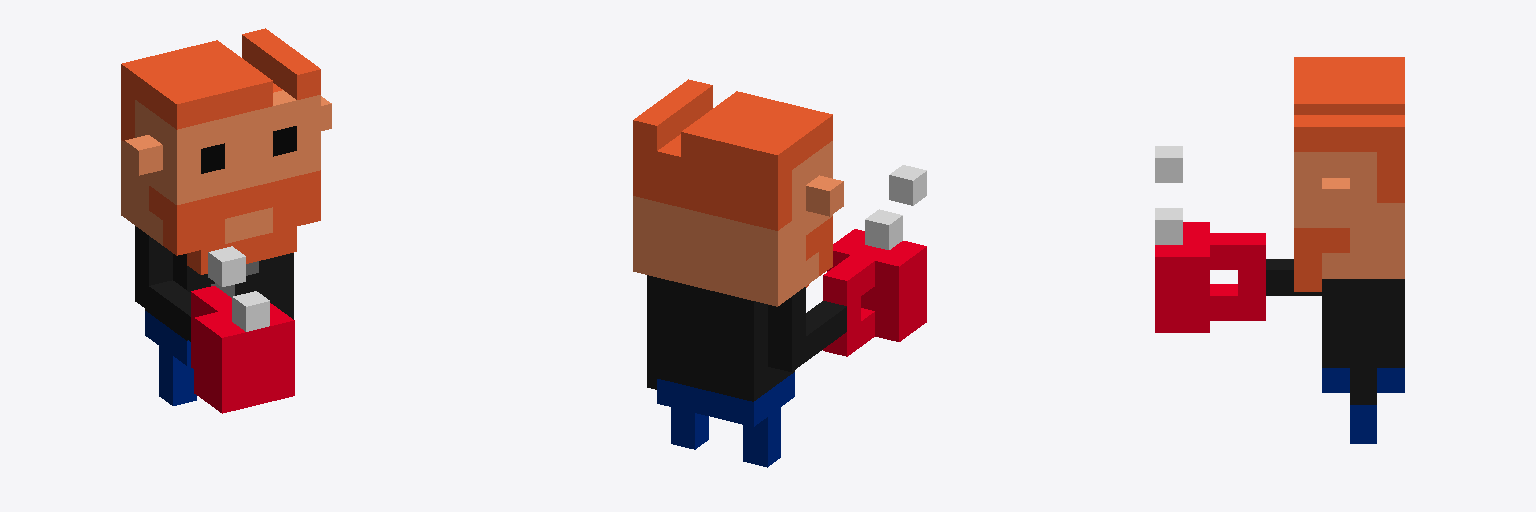
3 renders of one model, left to right at view 1: azimuth 30°, elevation 25°; view 2: azimuth 150°, elevation 25°; view 3: azimuth 270°, elevation 25°, orthographic.
Parts seen in each view (by area): view 1: object 1; view 2: object 1; view 3: object 1.
Part boxes in pixels (x1,y1,x2,y2): object 1: (121, 28, 331, 413); object 1: (633, 79, 926, 467); object 1: (1155, 57, 1404, 443).
Size of the model in its own units: 0.8 by 1.3 by 0.9.
1 materials, 1 textured.